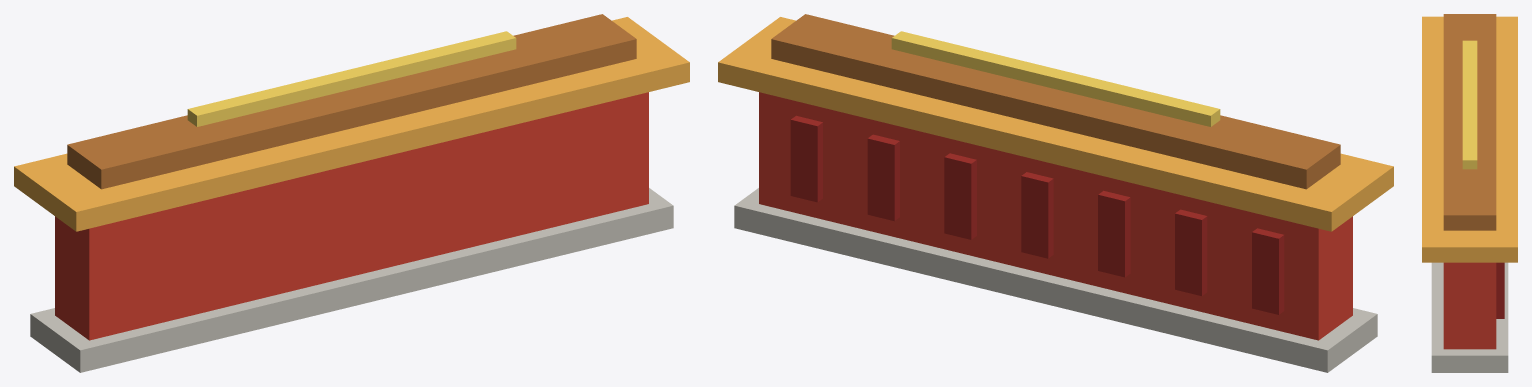
File: voxel-beijing-wall-segment.gltf
The picture shows the model from 3 angles, left to right: view 1: azimuth 30°, elevation 25°; view 2: azimuth 150°, elevation 25°; view 3: azimuth 270°, elevation 25°; orthographic projection. The views are drawn at different scales.
Size of the model in its own units: 4.55 by 1.48 by 0.8.
